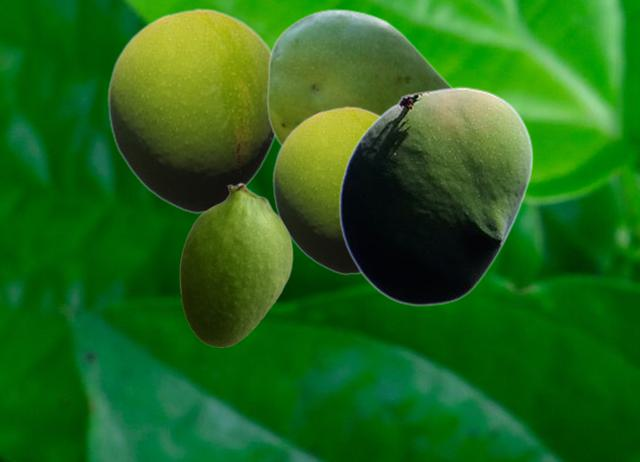green_mango: (338, 86, 533, 305), (107, 8, 275, 213), (266, 8, 452, 145), (179, 182, 292, 346), (272, 106, 379, 274)
